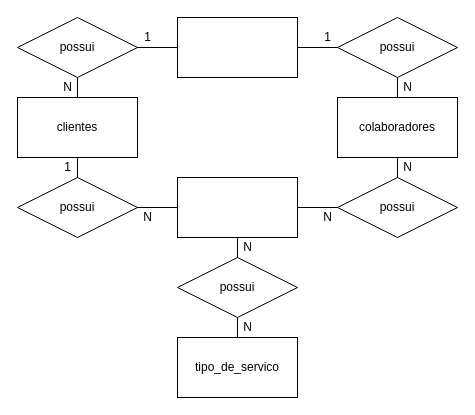
The diagram is 475 pixels wide and 415 high, and some of its shapes have lost their labels. The shapes that lost their labels are listed below. From the top down, each one's centre as x and y in pixels, then its label:
At point 237,47: "plataforma".
At point 237,207: "equipamento".
